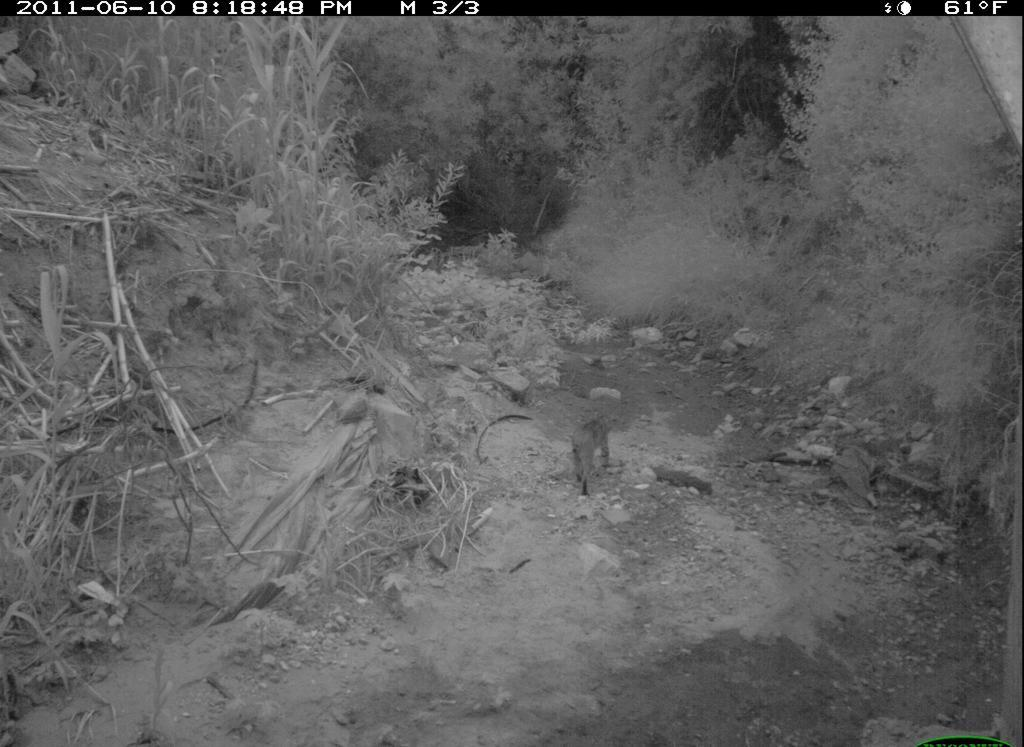bobcat: (565, 410, 625, 505)
